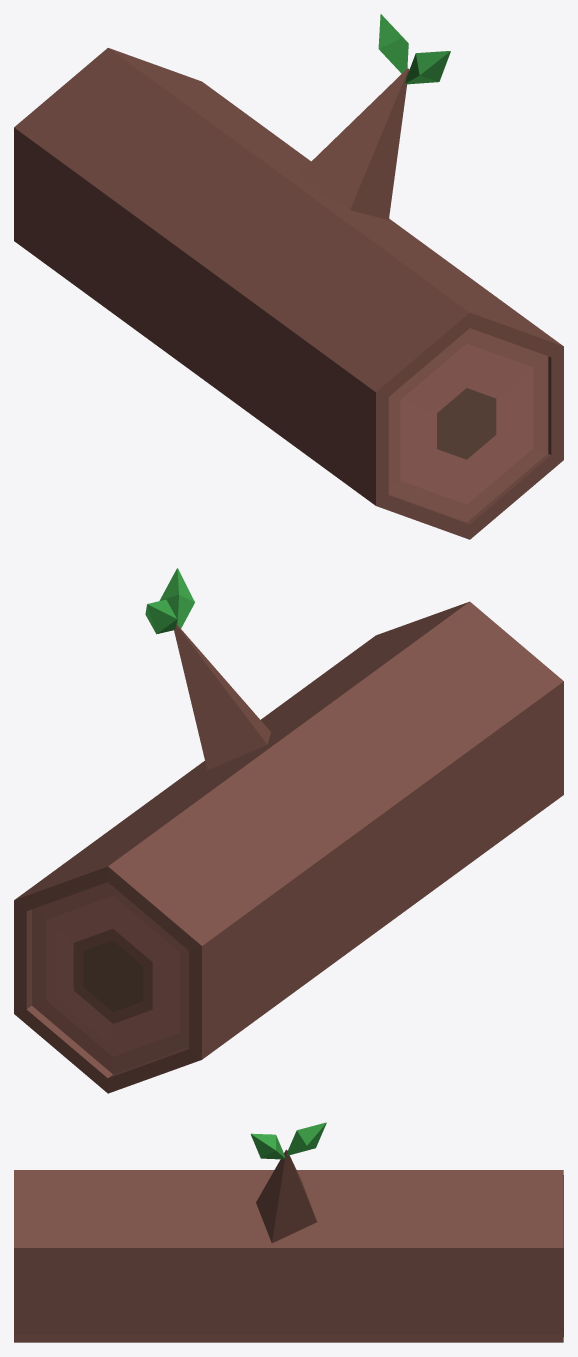
File: Log.fbx
3 views of the same model, one above another, from view 1: azimuth 30°, elevation 25°; view 2: azimuth 150°, elevation 25°; view 3: azimuth 270°, elevation 25° (orthographic). The views are drawn at different scales.
Parts seen in each view (by area): view 1: Cylinder; view 2: Cylinder; view 3: Cylinder.
Part boxes in pixels (x1,y1,x2,y2): Cylinder: (14,14,563,539); Cylinder: (14,568,563,1093); Cylinder: (14,1122,563,1342).
Bounding box in the file's own units: 115 × 165 × 311.
